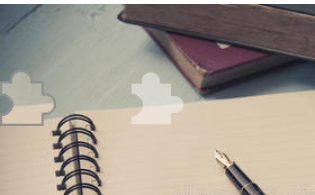target: (127, 69, 194, 127)
